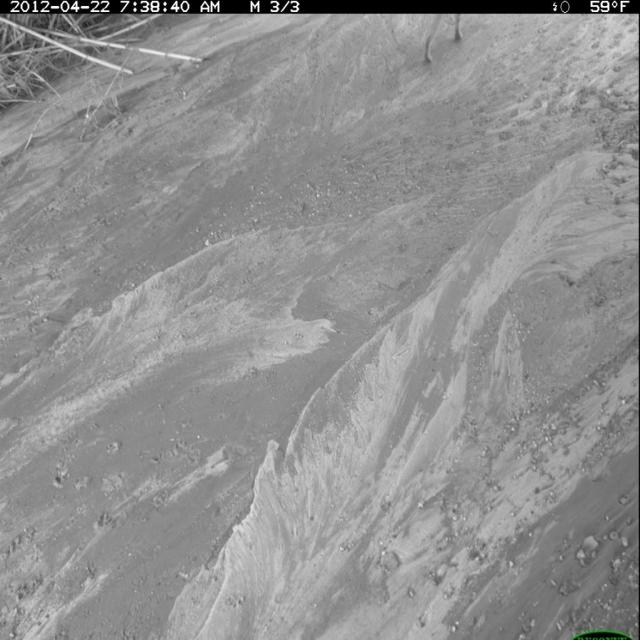bobcat: (417, 16, 478, 71)
